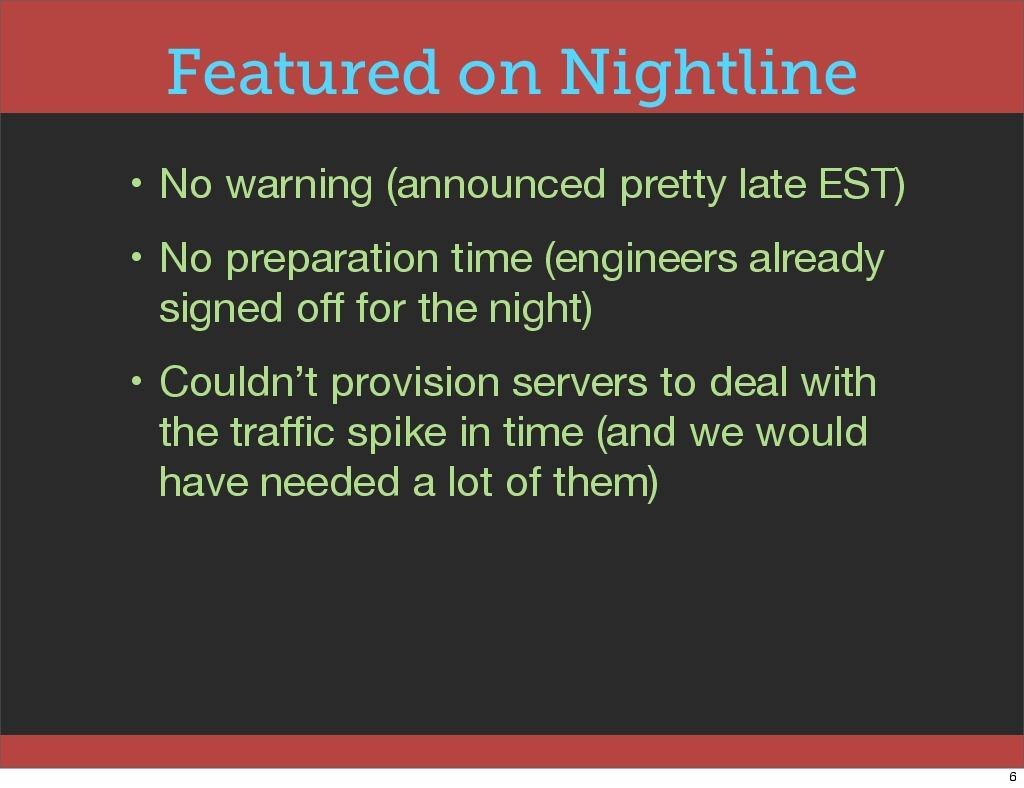paragraph: (113, 141, 934, 548)
title: (153, 38, 876, 112)
